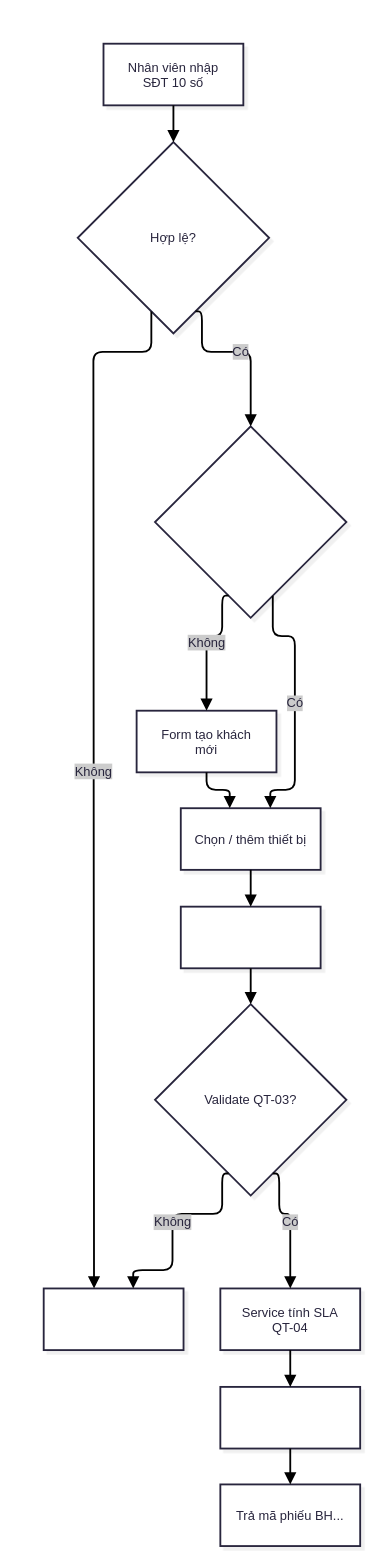
The diagram is 380 pixels wide and 1566 high, and some of its shapes have lost their labels. Here are the shapes that lost their labels. From the top down, the centre of each, then its label:
(252,523): Khách tồn tại?
(252,938): Nhập mô tả lỗi ≥10 ký tự
(115,1320): Thông báo lỗi 400
(291,1419): Repository lưu ticket + log MOI
